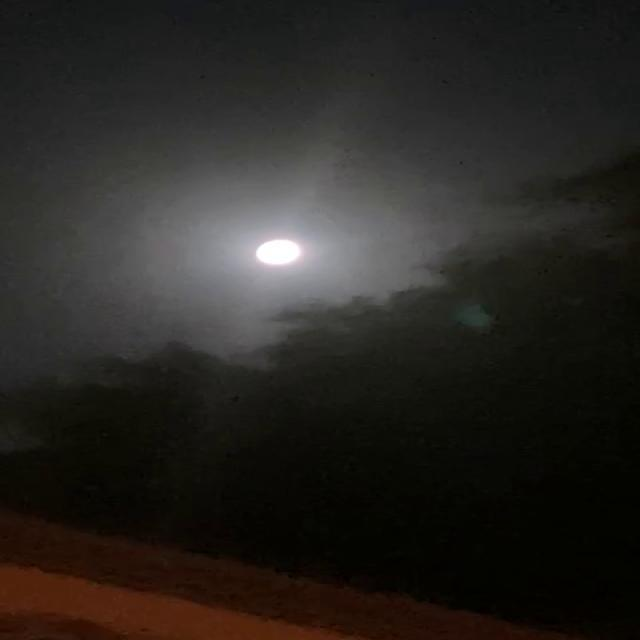moon: (246, 233, 300, 273)
